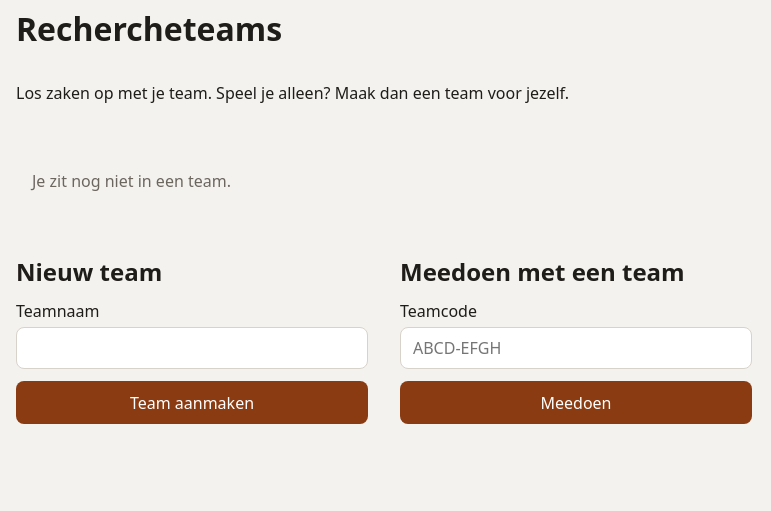
it: TeamListPage › TeamListPage_givenUnknownJoinCode_expectErrorMessage
Type "AAAA-AAAA" into the field labelled "Teamcode" at (576,348), box [400,327,752,369]
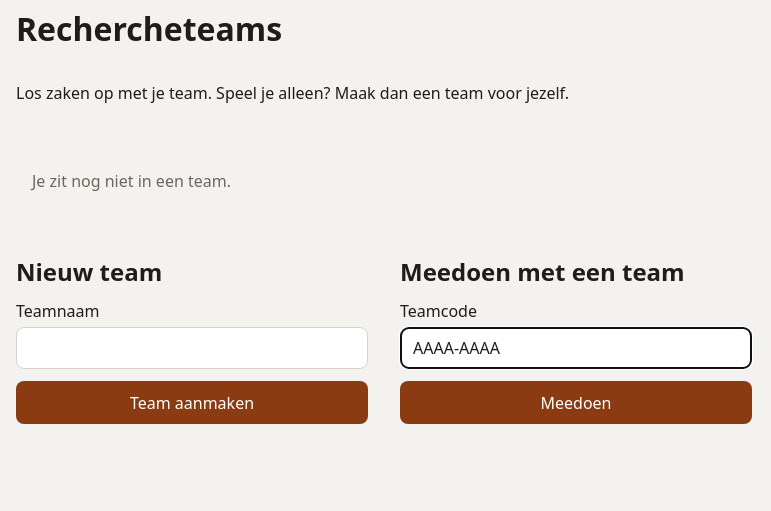
Click the button "Meedoen" at (576,403), box [400,381,752,424]
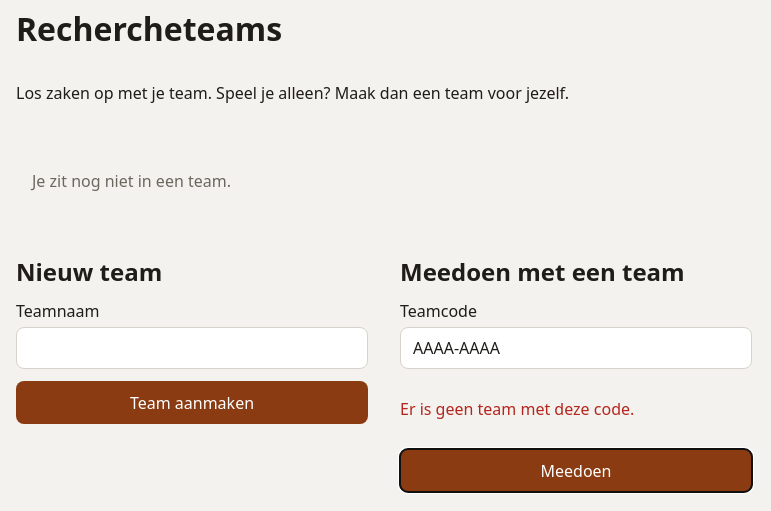
Expected: the message reads "Er is geen team met deze code.", [400,398,634,420]
